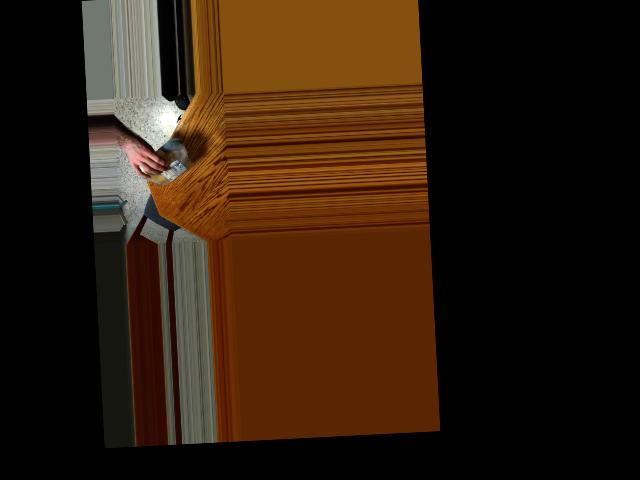cheese: (134, 140, 192, 188)
